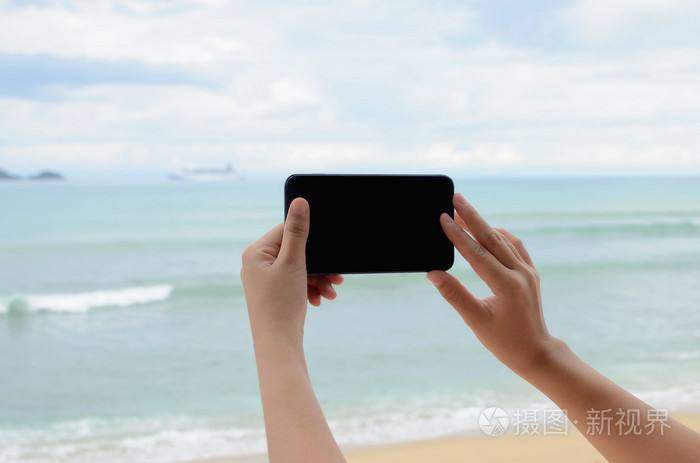taking photos: (233, 170, 559, 377)
